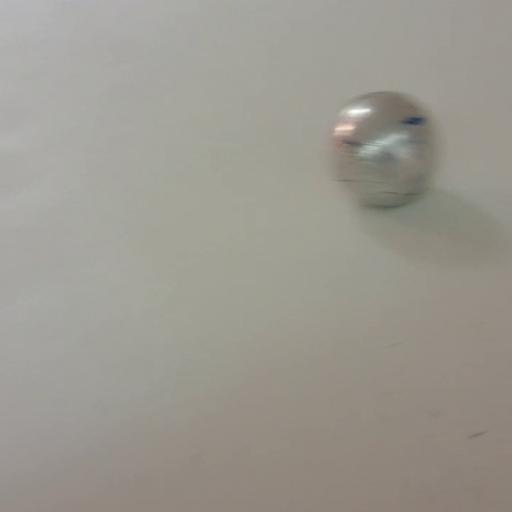alive: (329, 91, 437, 208)
